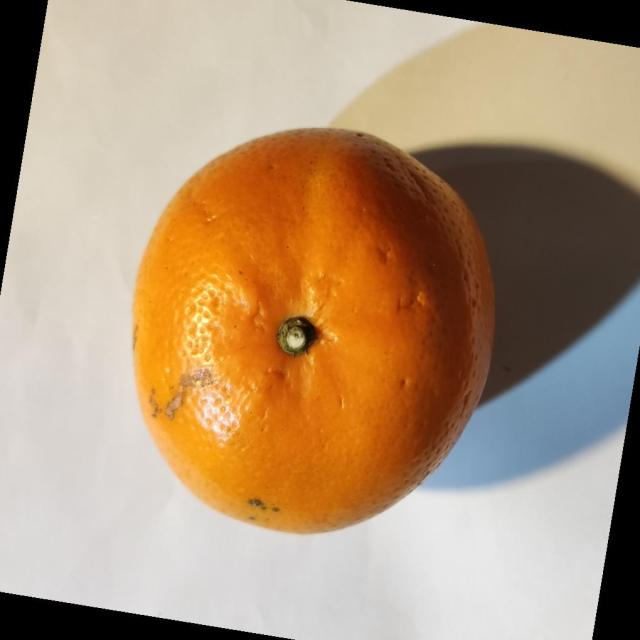fresh orange: (130, 125, 497, 535)
